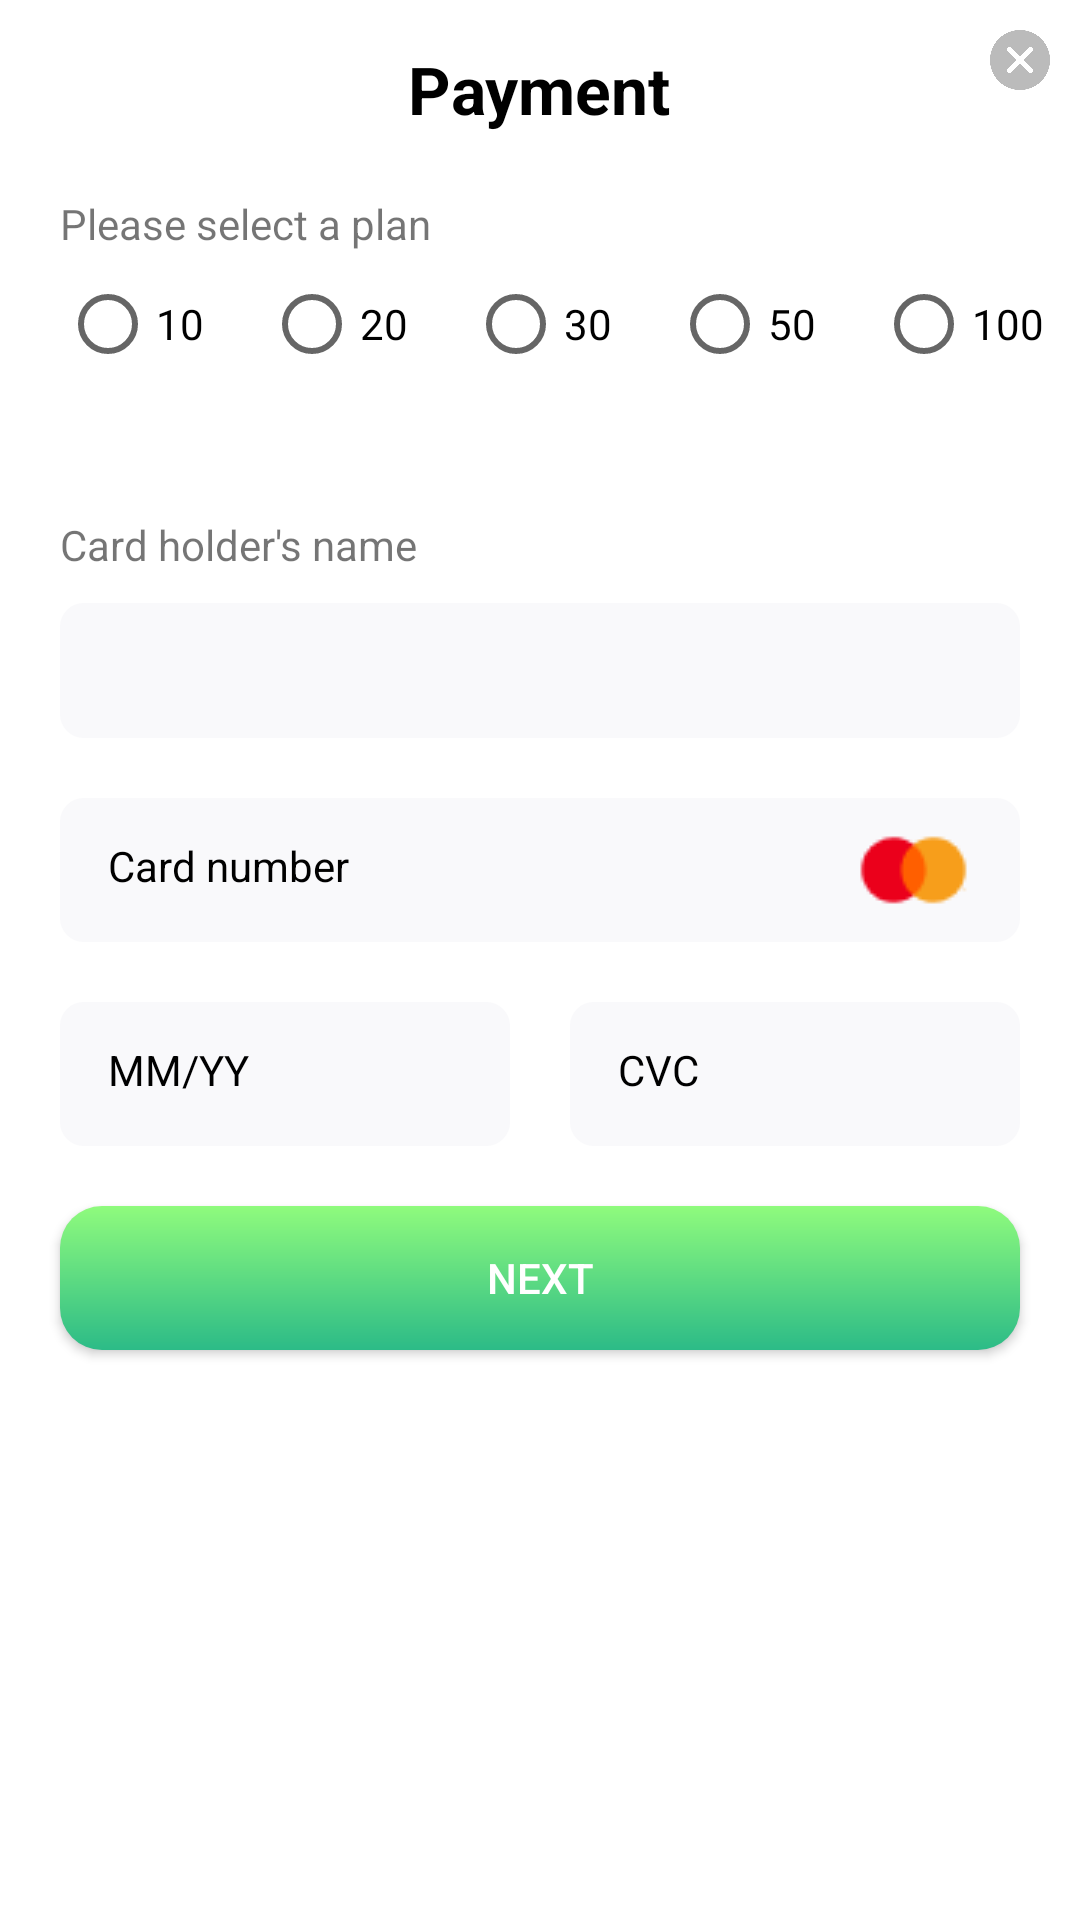

Screen size 1080px×1920px. Icon name, then its box in pixels as (x1, y1, x2, y2):
cancel: (990, 30, 1050, 90)
